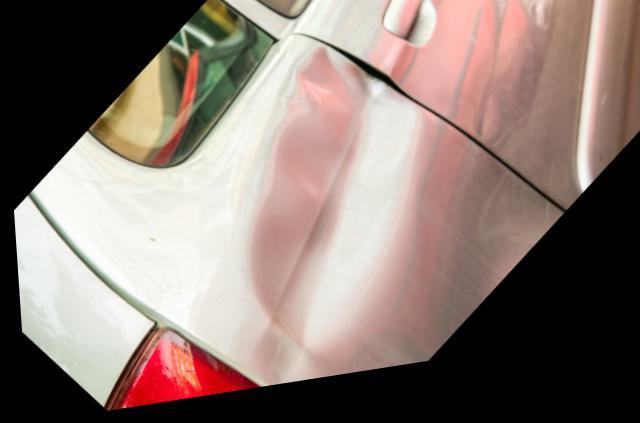dent: (237, 53, 419, 394), (488, 0, 558, 51), (471, 107, 498, 150)
